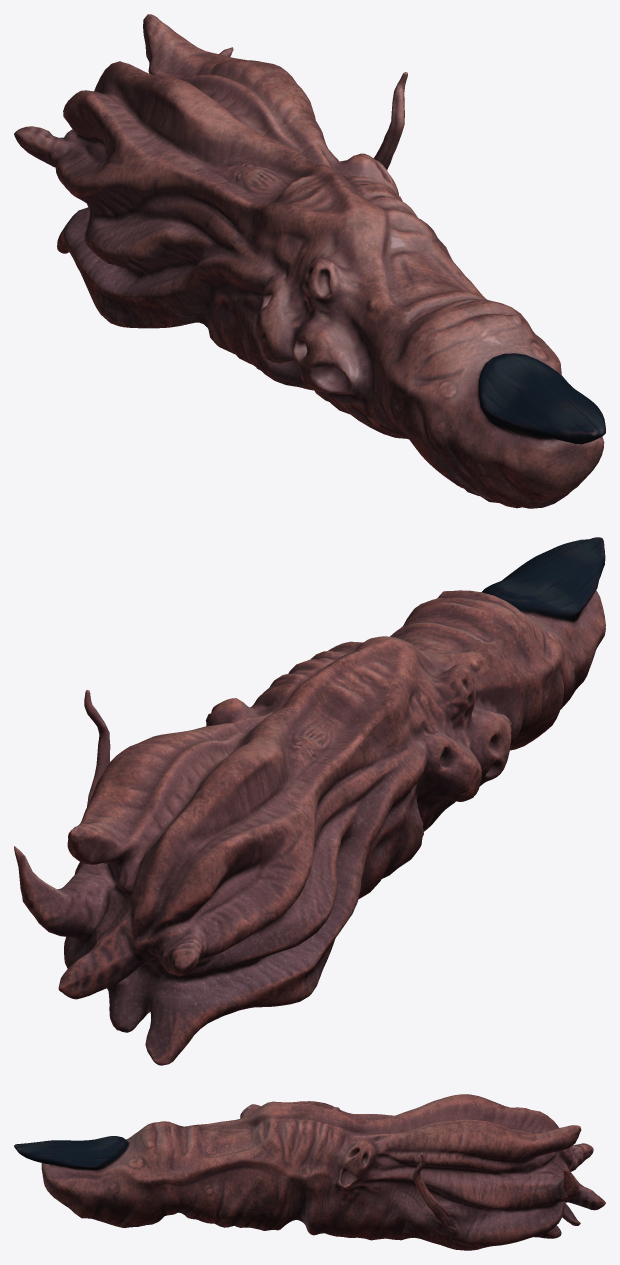
Rendered from sukuna-finger.glb.
3 views of the same model, one above another, from view 1: azimuth 30°, elevation 25°; view 2: azimuth 150°, elevation 25°; view 3: azimuth 270°, elevation 25° (orthographic). The views are drawn at different scales.
Parts seen in each view (by area): view 1: MSH_Jujutsu_sukuna_Finger; view 2: MSH_Jujutsu_sukuna_Finger; view 3: MSH_Jujutsu_sukuna_Finger.
Boxes of the visible parts, left/top/right/bottom form: MSH_Jujutsu_sukuna_Finger: left=14, top=14, right=605, bottom=508; MSH_Jujutsu_sukuna_Finger: left=14, top=537, right=605, bottom=1065; MSH_Jujutsu_sukuna_Finger: left=14, top=1094, right=605, bottom=1250.
Size of the model in its own units: 2.41 by 1.97 by 7.82.
Materials: 1 (1 with a texture image).
